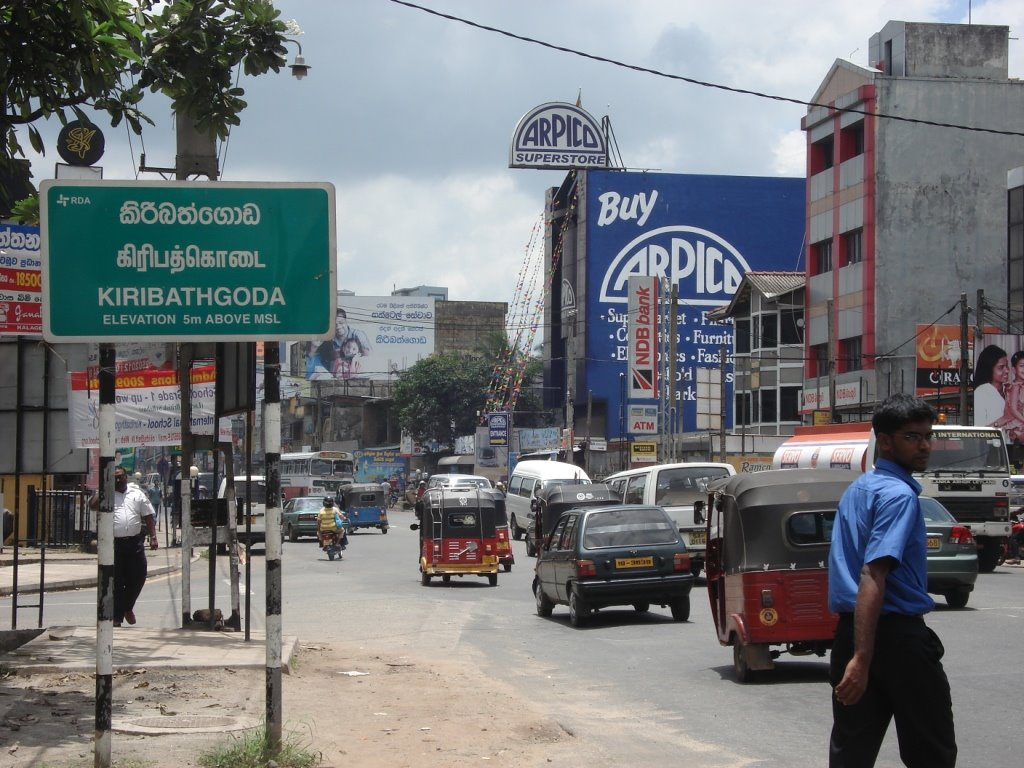tuk tuk: (702, 476, 834, 687), (415, 488, 501, 588), (335, 481, 391, 535)
